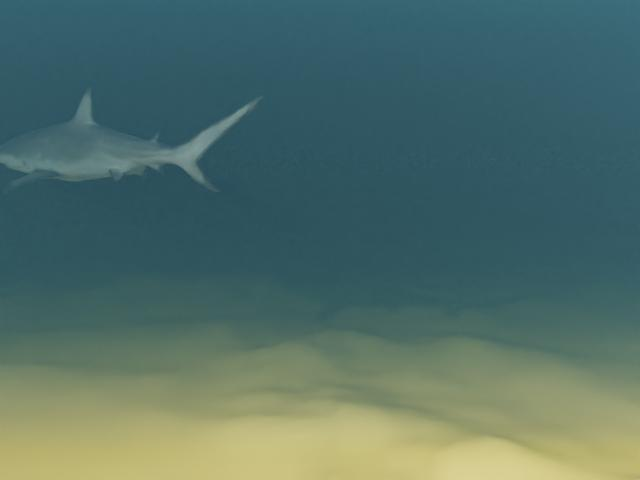Carribean Shark.001: (0, 86, 263, 192)
